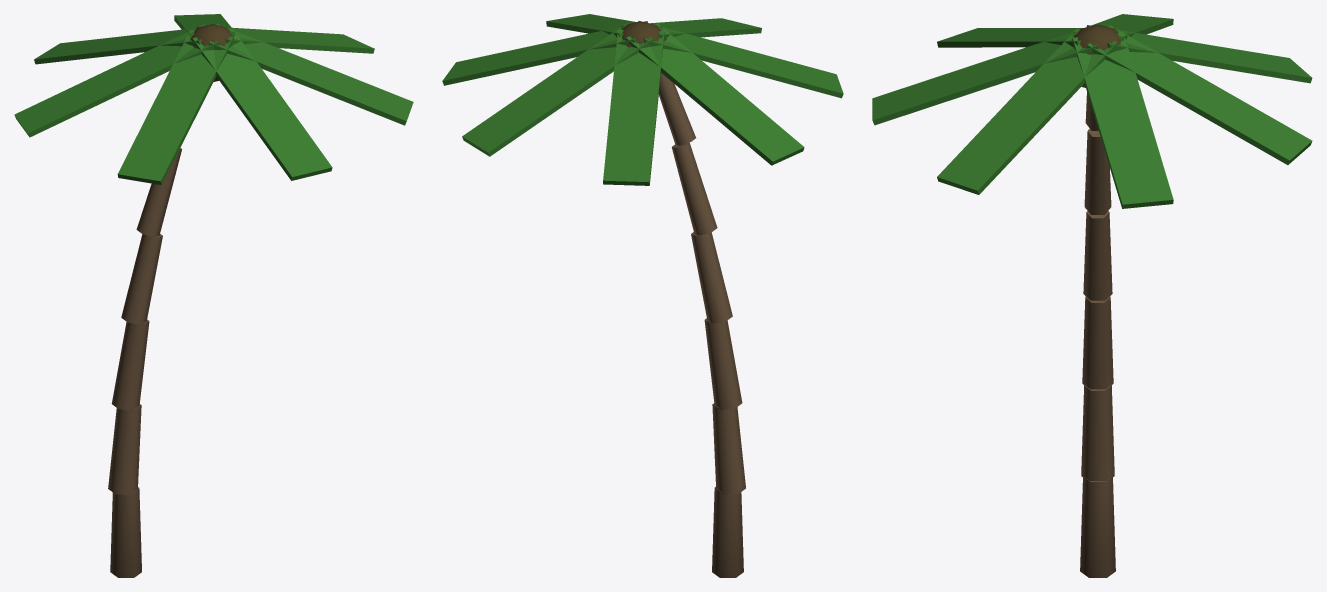
The model's file is palmeira_de_praia.glb.
3 renders of one model, left to right at view 1: azimuth 30°, elevation 25°; view 2: azimuth 150°, elevation 25°; view 3: azimuth 270°, elevation 25°, orthographic. The views are drawn at different scales.
Parts seen in each view (by area): view 1: palmeira_de_praia_liso; view 2: palmeira_de_praia_liso; view 3: palmeira_de_praia_liso.
Part boxes in pixels (box(x1,y1,x2,y2)): palmeira_de_praia_liso: box(14, 14, 413, 577); palmeira_de_praia_liso: box(442, 14, 843, 577); palmeira_de_praia_liso: box(872, 14, 1312, 577).
Size of the model in its own units: 6.04 by 8.73 by 5.89.
